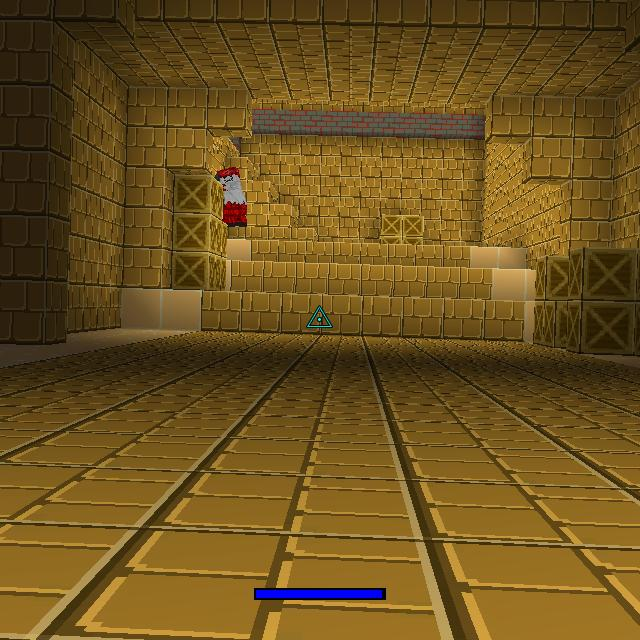enemy: (215, 166, 248, 228)
